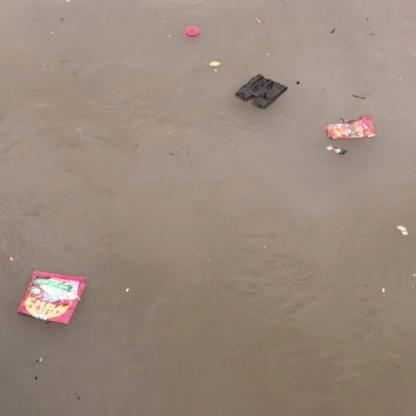Trash: (15, 272, 88, 322), (236, 73, 288, 115), (327, 112, 378, 142), (182, 22, 203, 42)
